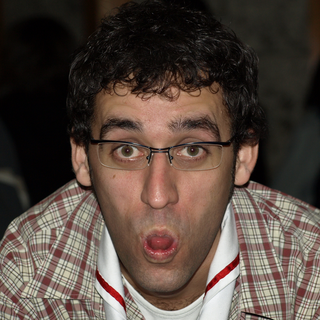eye: (108, 140, 148, 166), (169, 142, 214, 163)
